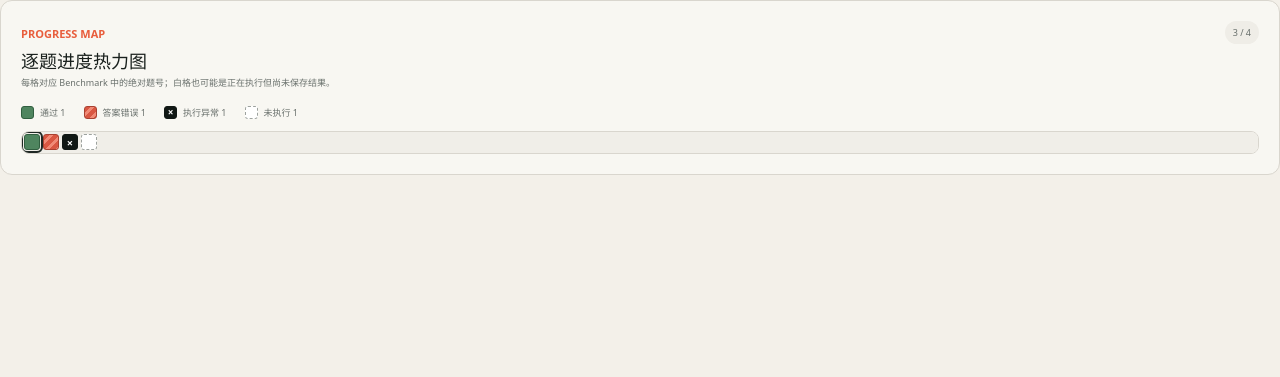
Test: RunProgressHeatmap › shares hover, keyboard focus and tap details, including known totals
Hover over the cell named "第 1 题，通过".
mouse_move(32, 142)  # box [24,134,40,150]
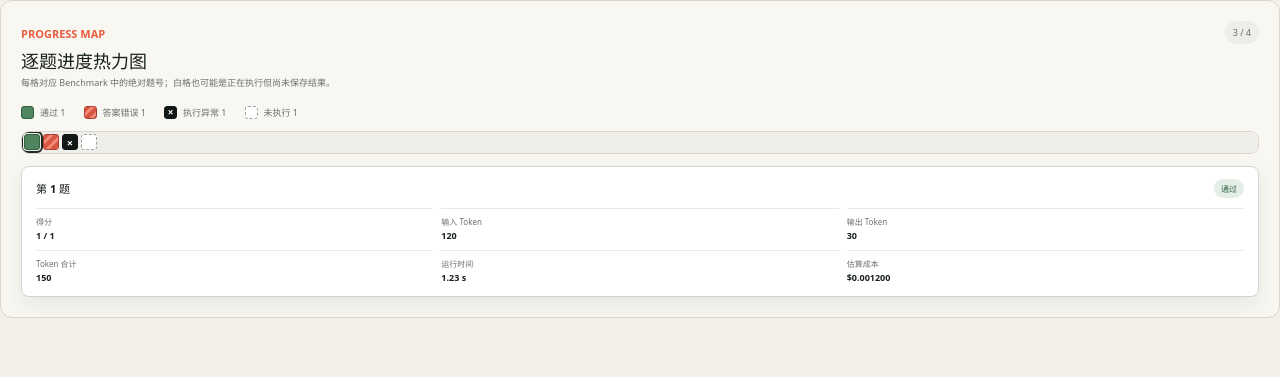
Result: the tooltip shows "$0.001200" at [847,271,890,284]
Result: the tooltip shows "1 / 1" at [36,229,55,242]
Move the pointer off the cell named "第 1 题，通过", box [24,134,40,150]
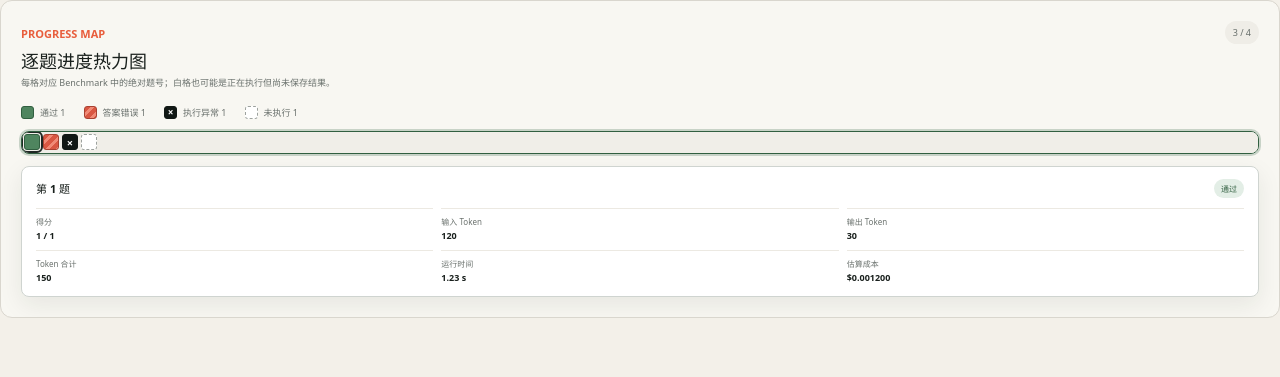
Press Arrowright
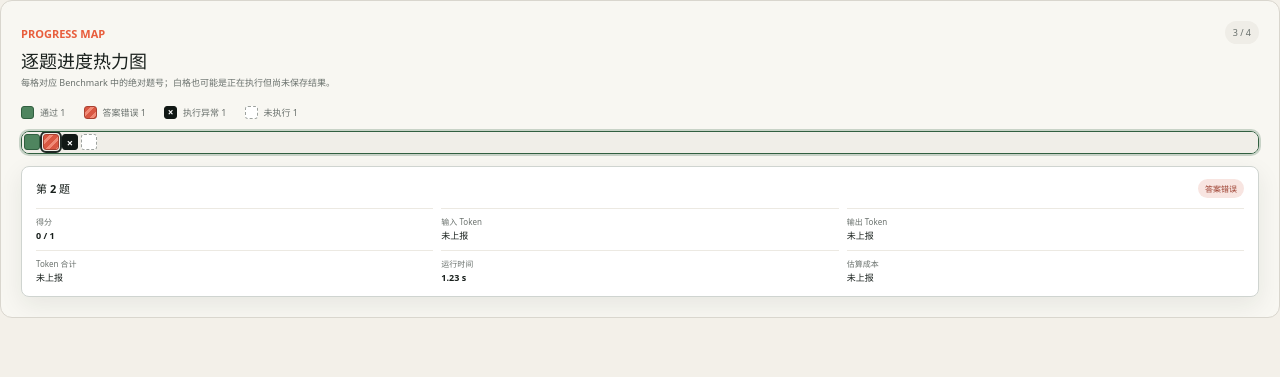
Result: the tooltip shows "第 2 题" at [21,166,1259,297]
Click the cell named "第 3 题，执行异常".
click(70, 142)  # box [62,134,78,150]
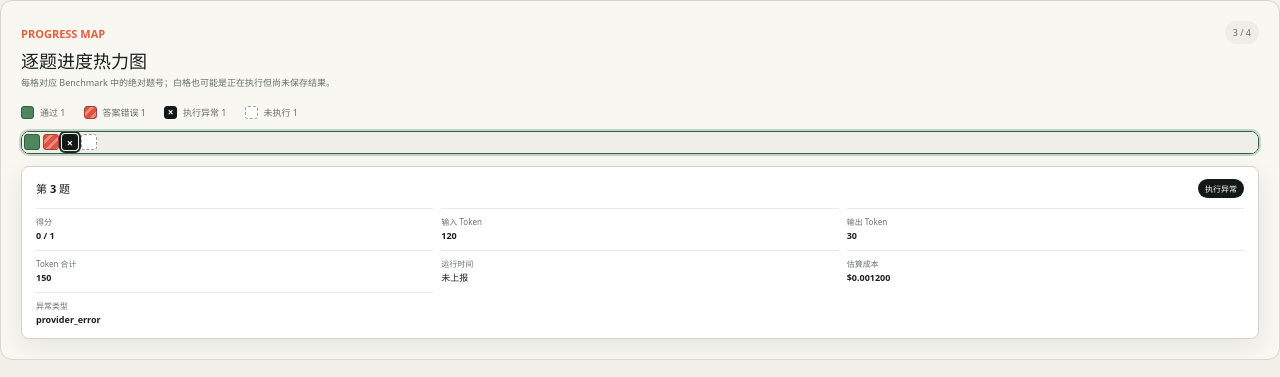
Result: the tooltip shows "provider_error" at [36,313,101,326]
